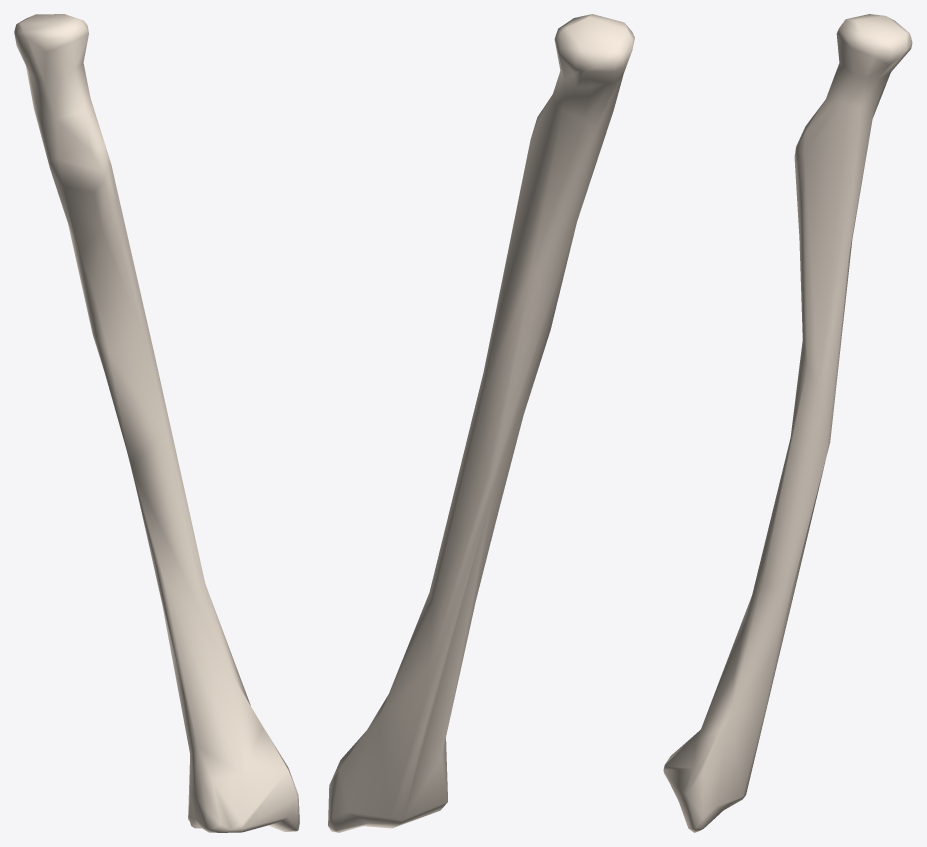
The model's file is left_radius.glb.
3 renders of one model, left to right at view 1: azimuth 30°, elevation 25°; view 2: azimuth 210°, elevation 25°; view 3: azimuth 270°, elevation 25°, orthographic. The views are drawn at different scales.
Visible parts, largest first — view 1: Radius.r; view 2: Radius.r; view 3: Radius.r.
Boxes of the visible parts, x1,y1,x2,y2 form: Radius.r: (14, 14, 299, 832); Radius.r: (328, 14, 634, 832); Radius.r: (663, 14, 912, 832).
Bounding box in the file's own units: 0.0444 × 0.1775 × 0.054.
